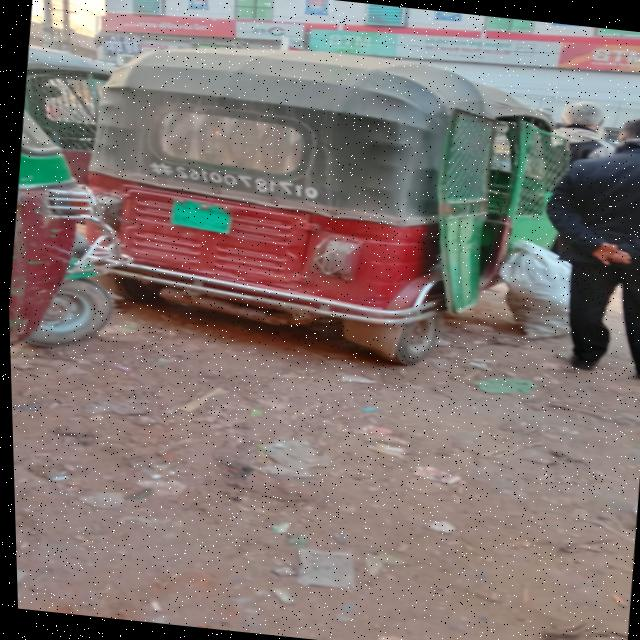cng: (51, 0, 619, 399)
